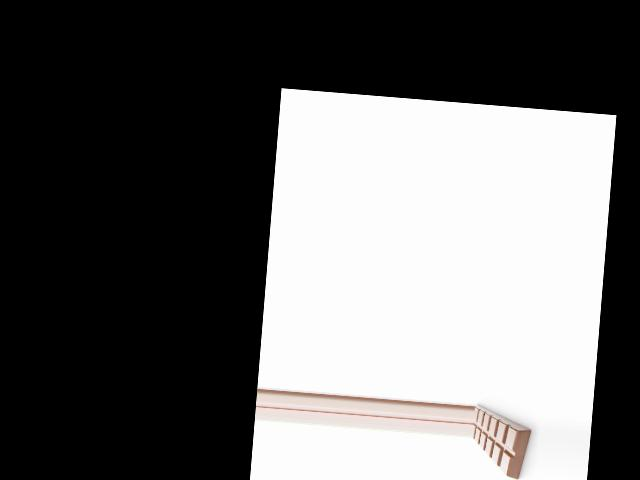chocolate: (469, 399, 535, 480)
